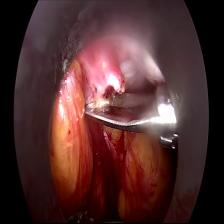Scissors: (86, 84, 179, 154)
